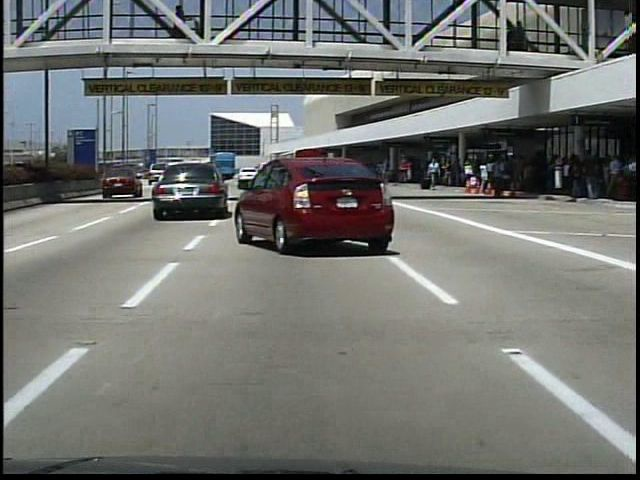person: (489, 156, 508, 205), (427, 159, 443, 193), (171, 7, 187, 40), (404, 160, 414, 185)
